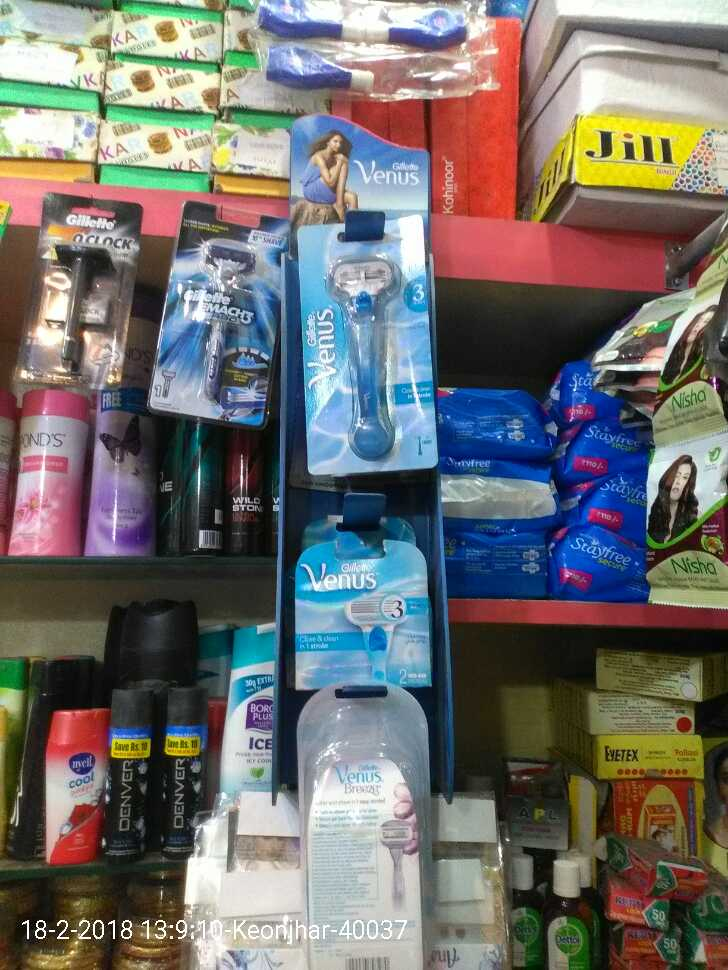beauty: (311, 230, 423, 466), (293, 536, 434, 694), (169, 217, 272, 414), (34, 224, 149, 380)
